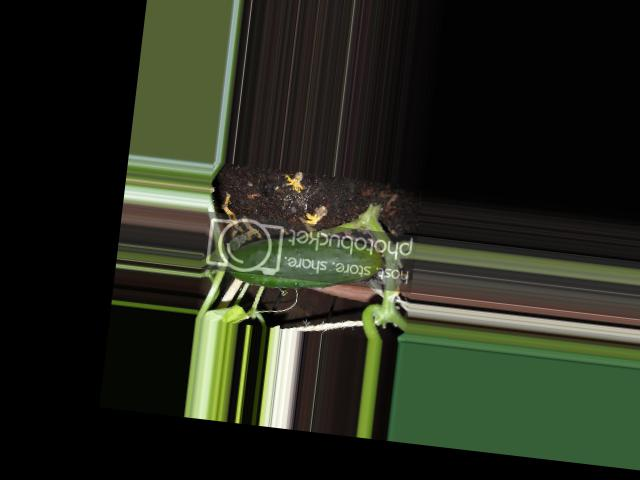cucumber: (226, 225, 384, 299)
